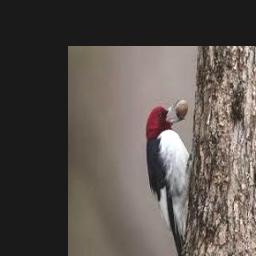Woodpecker: (146, 99, 192, 256)
